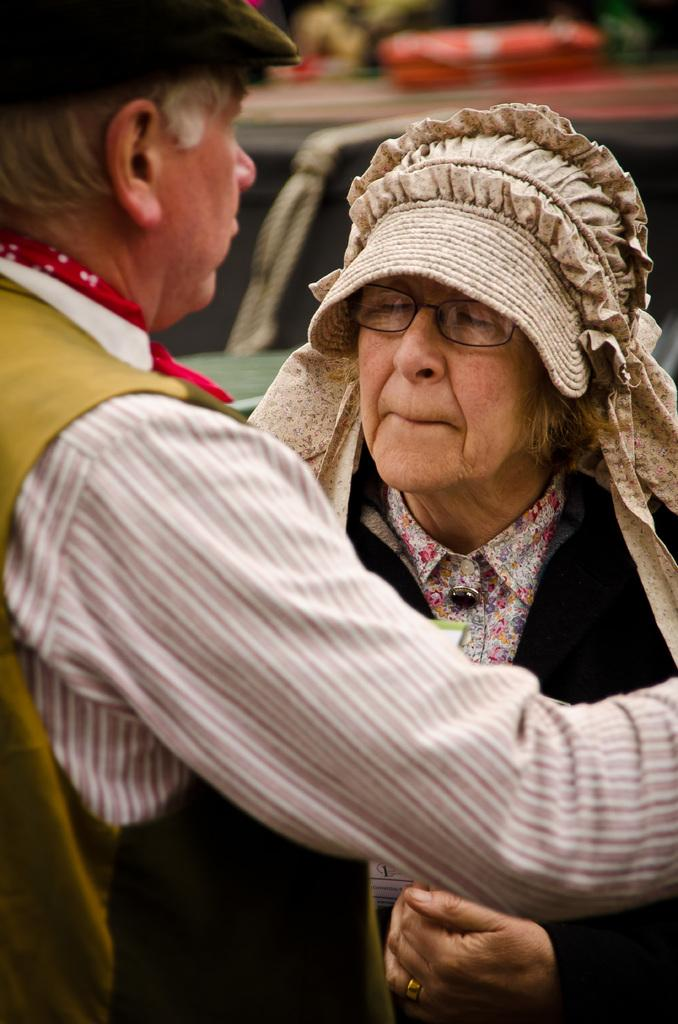Hat: (0, 0, 300, 110)
